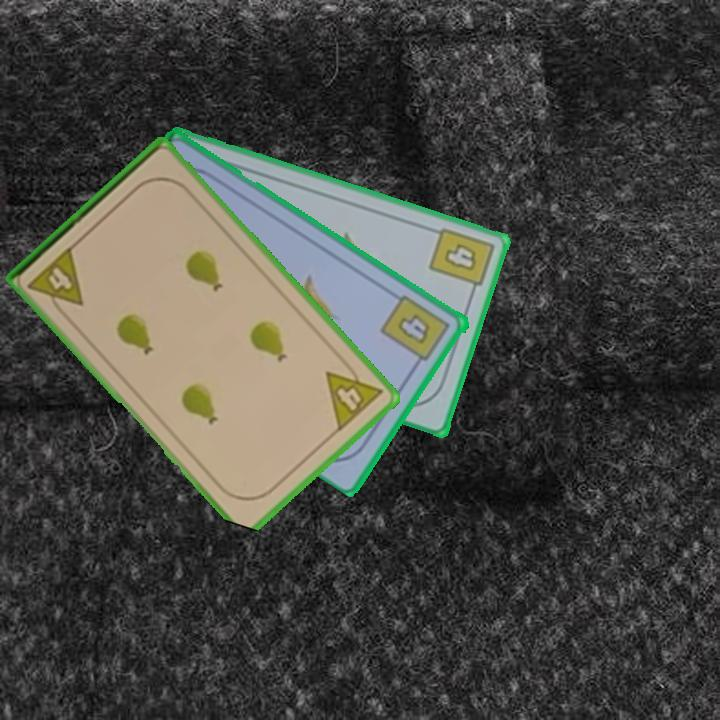4b: (378, 291, 454, 371), (425, 223, 497, 300)
4p: (322, 354, 386, 435), (24, 242, 87, 321)
